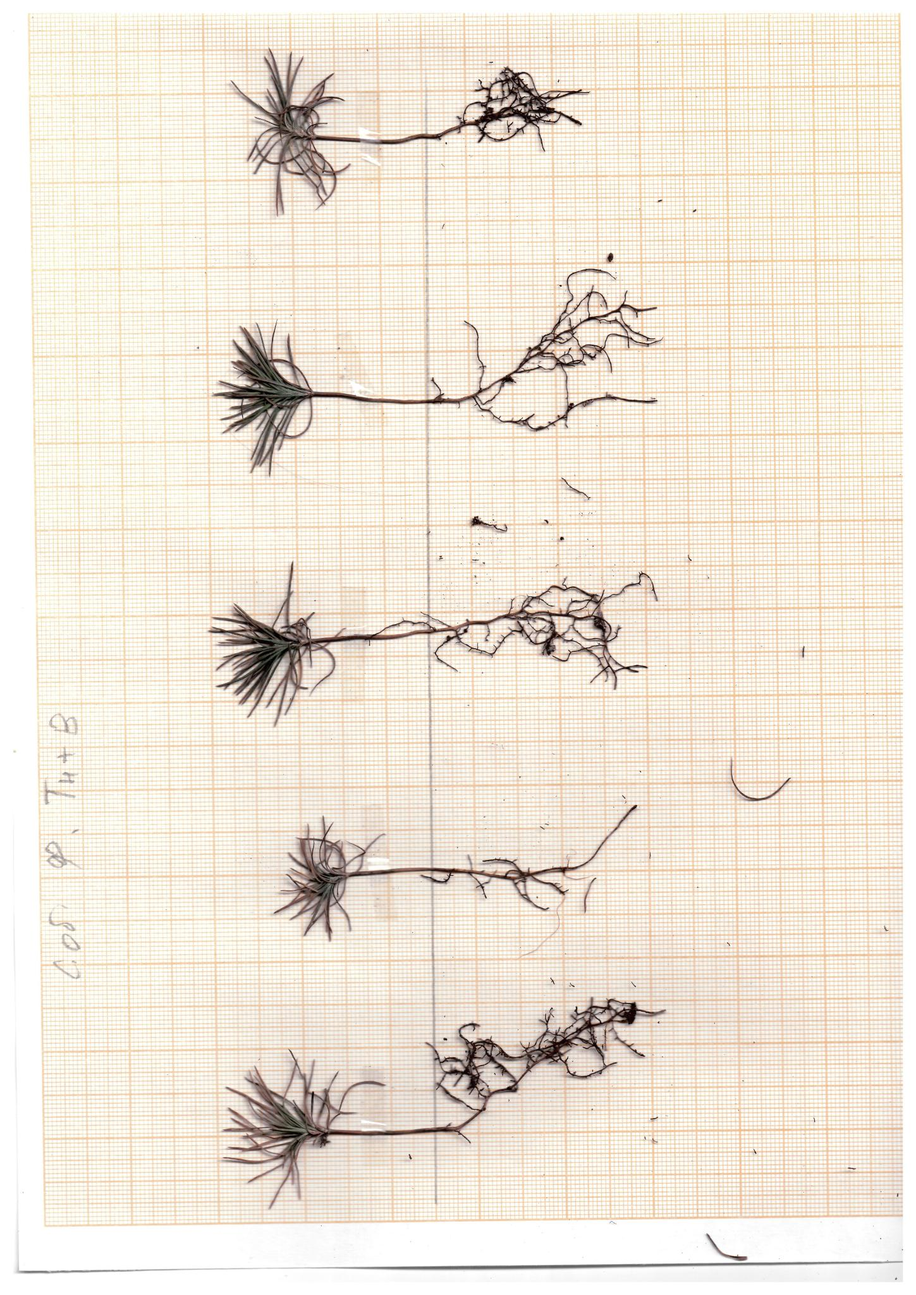Seeding: (212, 261, 687, 482), (211, 991, 664, 1210), (205, 555, 672, 748), (227, 41, 602, 224), (272, 796, 641, 953)
